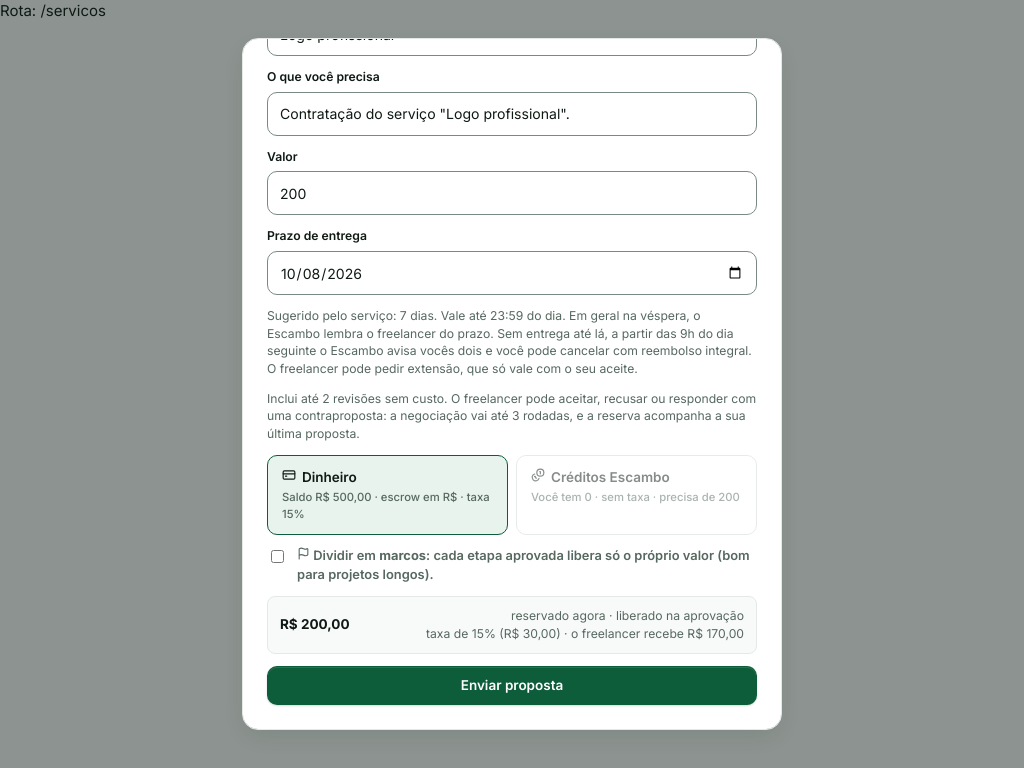
Scenario: ContratarModal: proposta em dinheiro › enviar sem mexer manda o serviço, o freelancer, o valor, dinheiro e o fim do dia do prazo, sem marcos
(page scrolled)
Click the button "Enviar proposta".
click(512, 685)  # box [267, 666, 757, 705]
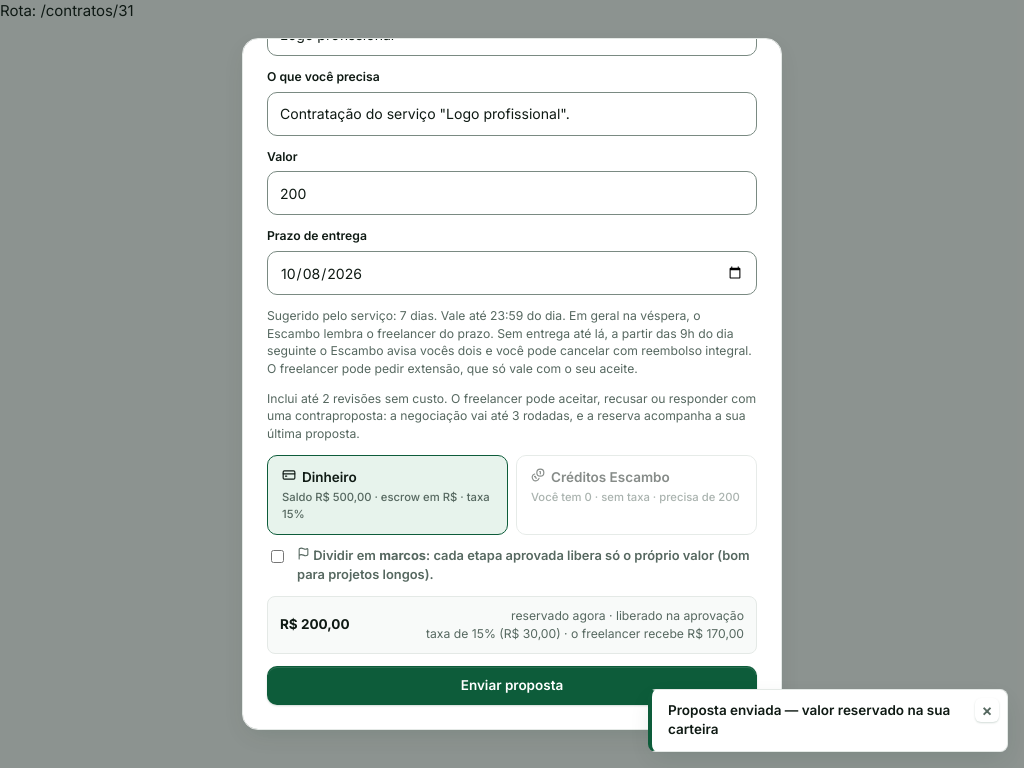
Check: the text "Proposta enviada — valor reservado na sua carteira" is shown, box [668, 701, 967, 740]
Check: the text "Rota: /contratos/31" is shown, box [0, 1, 134, 20]
